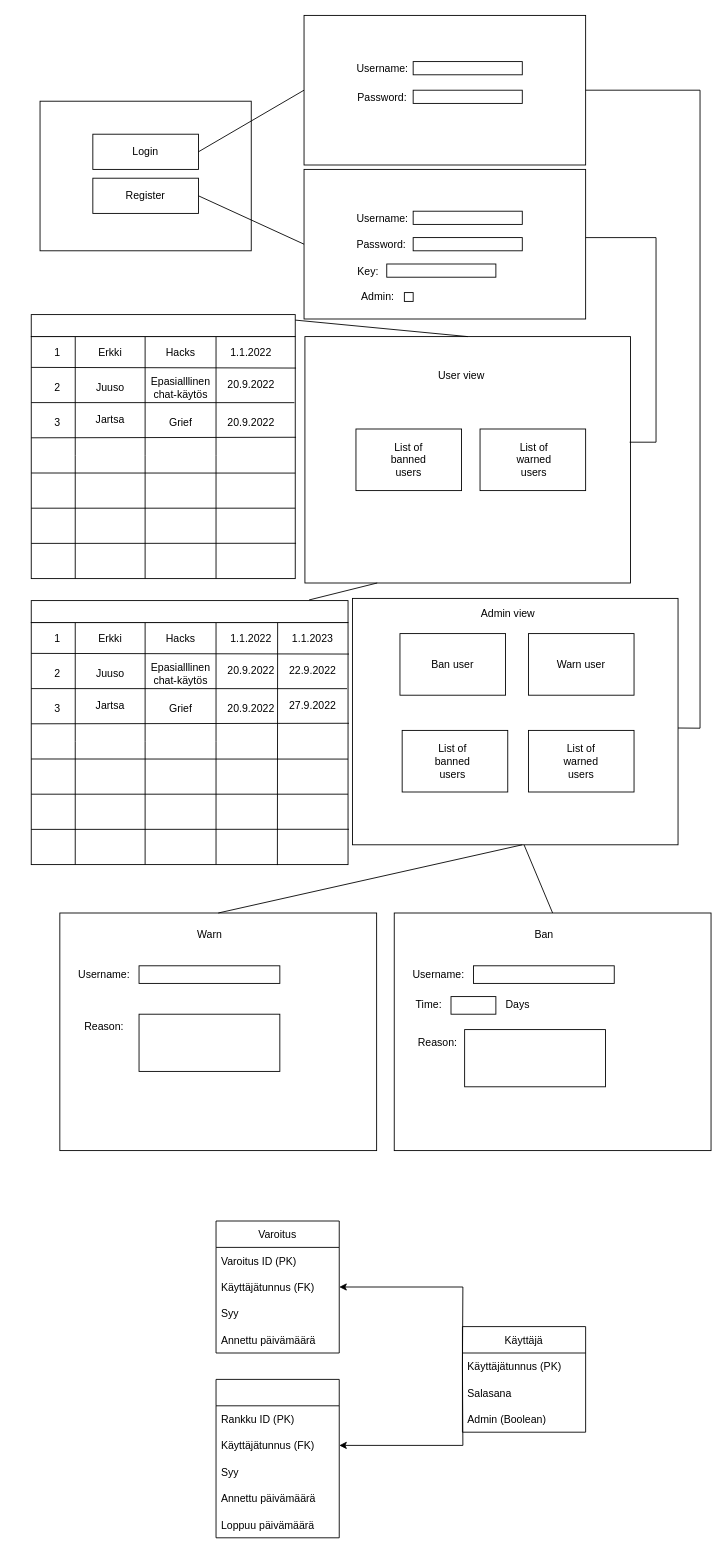
The diagram is 727 pixels wide and 1553 high, and some of its shapes have lost their labels. The shapes that lost their labels are listed below. From the top down, each one's box as (x1, y1, x2, y2) in pixels, then its label:
(30, 314, 295, 337): Warning list
(30, 600, 348, 623): Ban list
(215, 1379, 339, 1538): Porttikiellon tiedot
